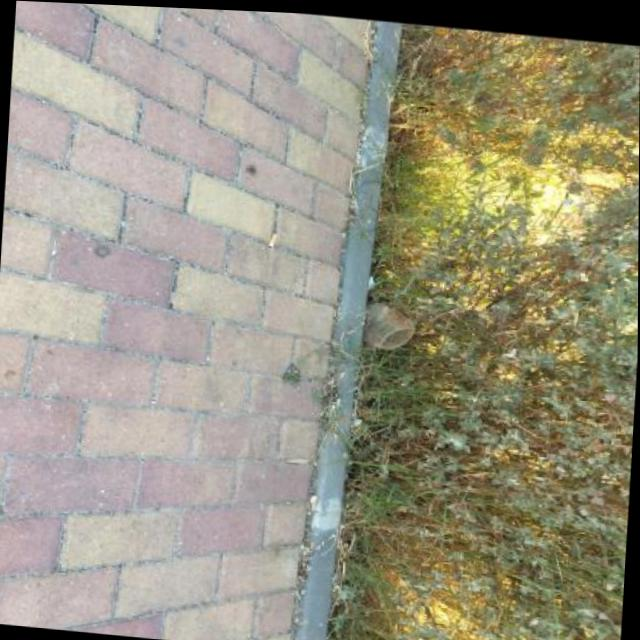plastic: (361, 300, 416, 351)
